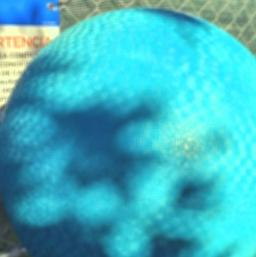algae: (0, 6, 256, 257)
